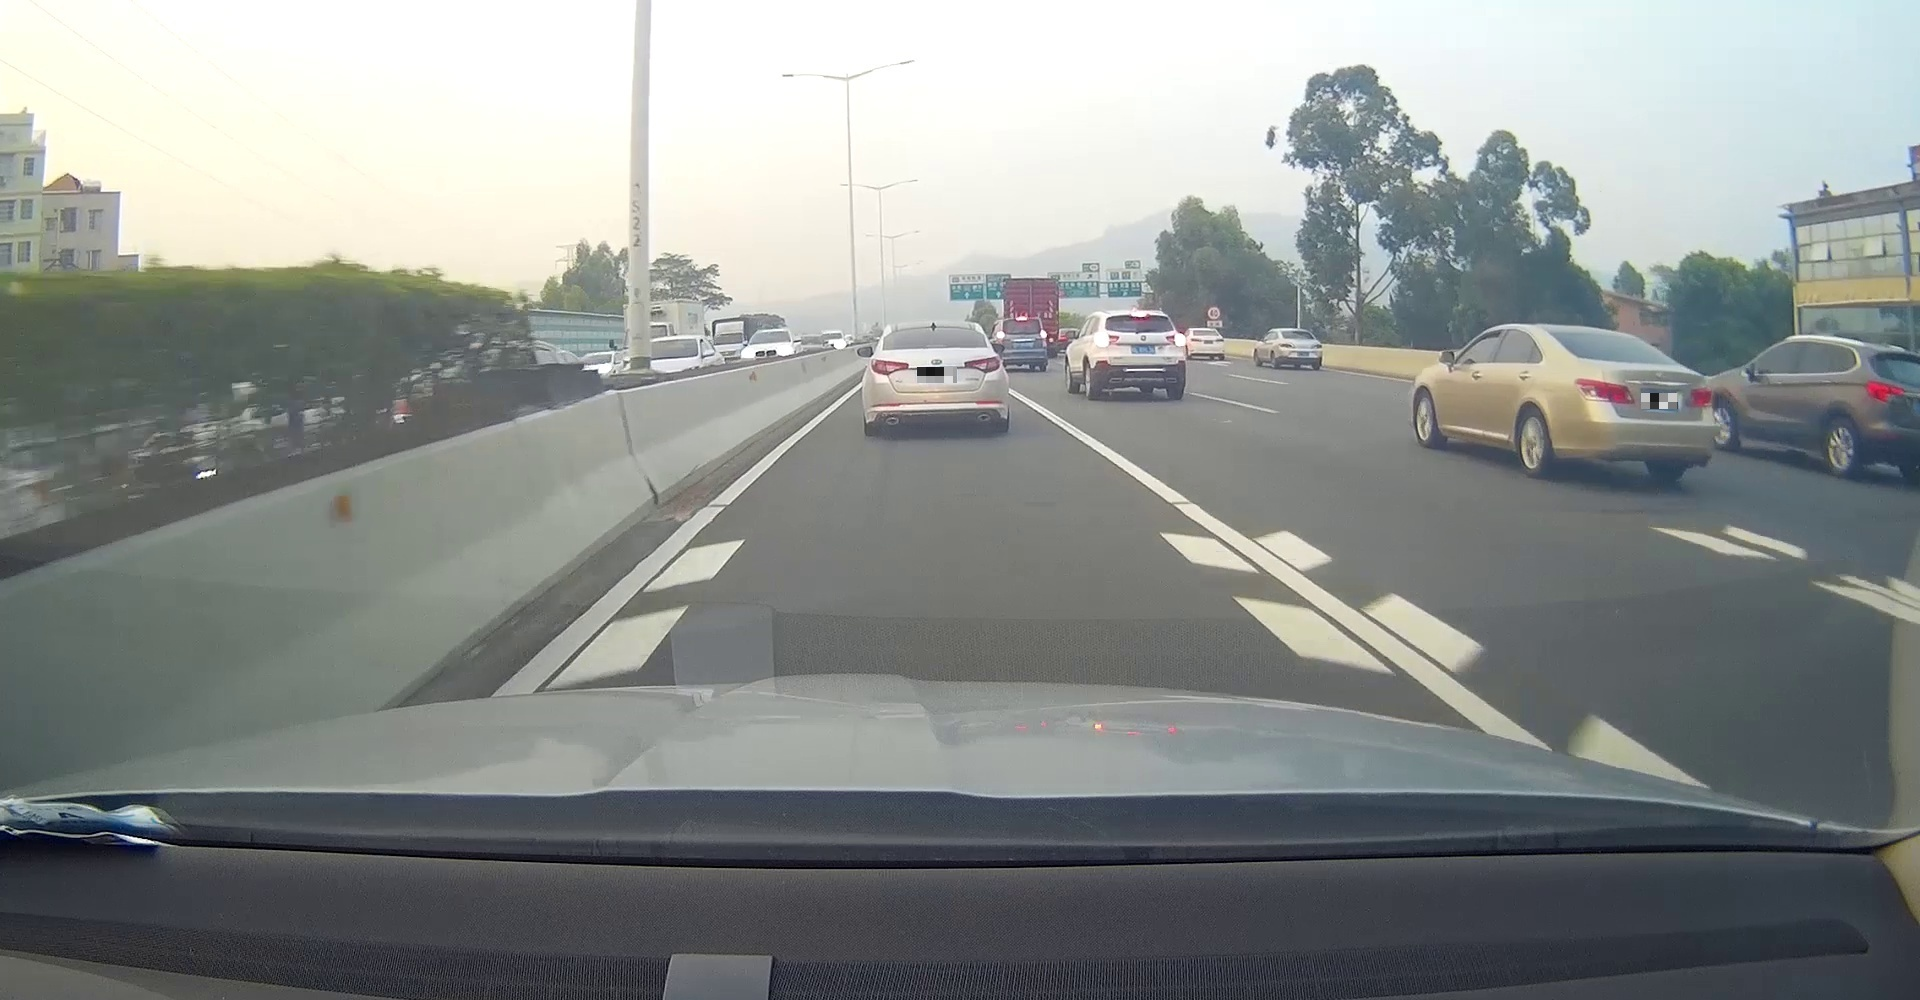L_light: (1575, 378, 1634, 404), (870, 358, 909, 376), (1095, 332, 1120, 346), (1280, 343, 1294, 349)
R_light: (963, 355, 1001, 373), (1685, 385, 1712, 407), (1164, 332, 1186, 346), (1310, 343, 1322, 349)
T_light: (1592, 332, 1613, 340), (924, 343, 947, 348), (1131, 313, 1147, 317), (1293, 331, 1300, 332)
day-brake: (1095, 310, 1187, 400)
day-no: (1545, 324, 1717, 482), (863, 320, 1008, 437), (1276, 327, 1323, 371)
plate_1: (917, 367, 957, 383)
plate_2: (1641, 393, 1677, 409)
